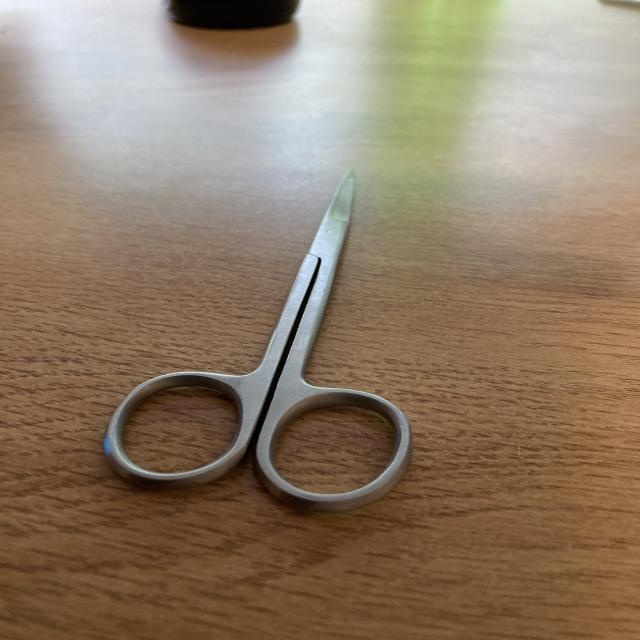Gunting: (94, 167, 432, 512)
